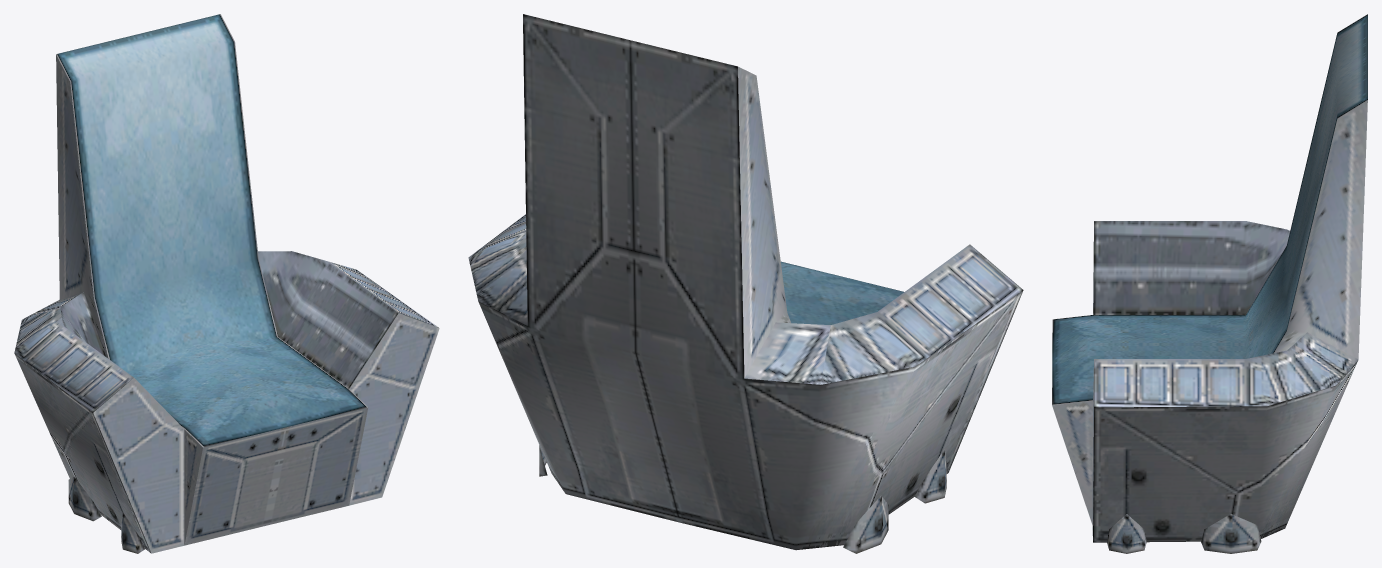
Rendered from frn_all_space_metal_wheeled_s01_l2.fbx.
3 views of the same model, side by side, from view 1: azimuth 30°, elevation 25°; view 2: azimuth 150°, elevation 25°; view 3: azimuth 270°, elevation 25° (orthographic). The views are drawn at different scales.
Visible parts, largest first — view 1: mesh_node; view 2: mesh_node; view 3: mesh_node.
Part boxes in pixels (<box>): mesh_node: <box>14,14,439,553</box>; mesh_node: <box>468,14,1023,553</box>; mesh_node: <box>1052,14,1367,553</box>.
Size of the model in its own units: 1.05 by 1.17 by 0.7756.
